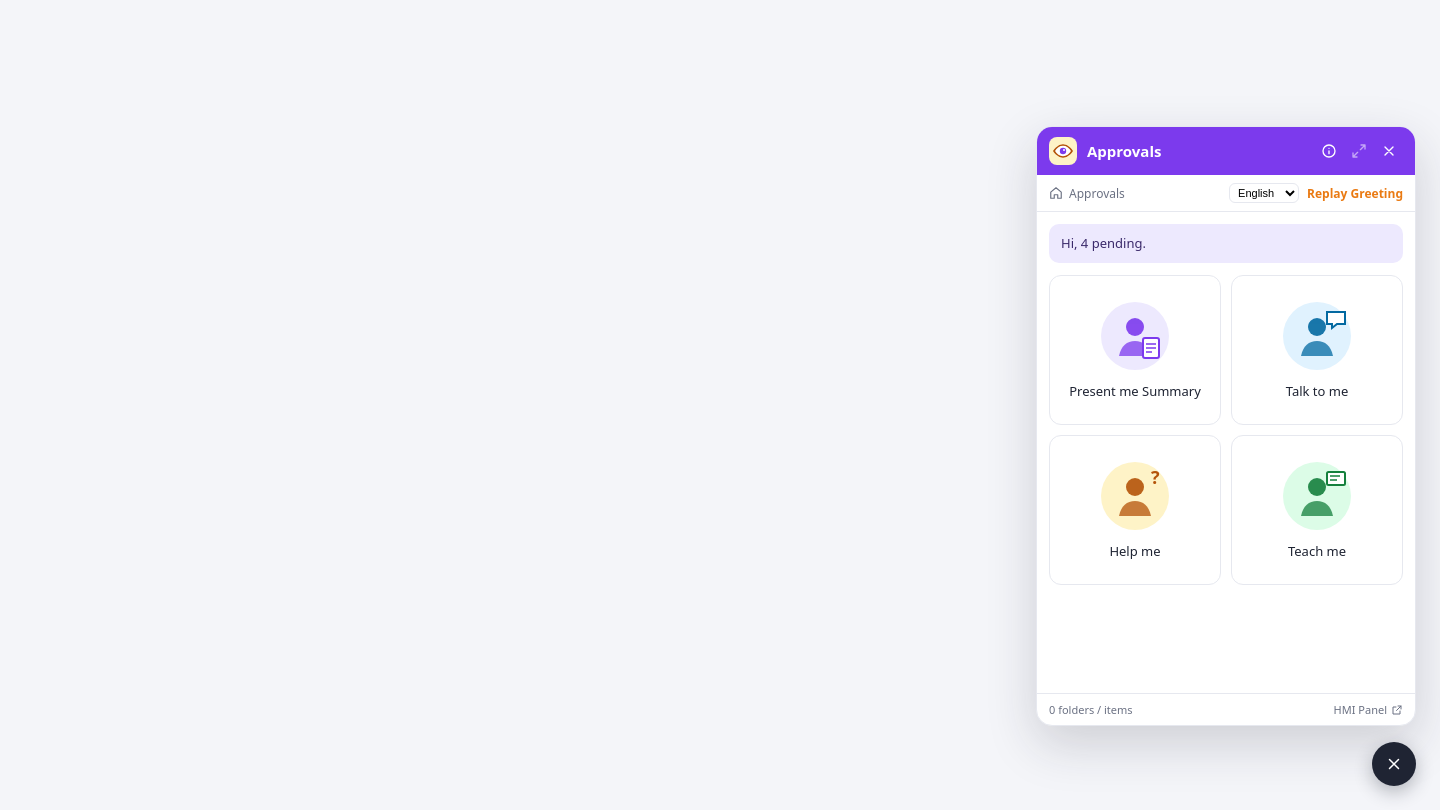
Test case: AssistantWidget › navigates from a card into its view and back home
The width and height of the screenshot is (1440, 810).
Click the button "? Help me" at coordinates (1135, 510), box [1049,435,1221,585]
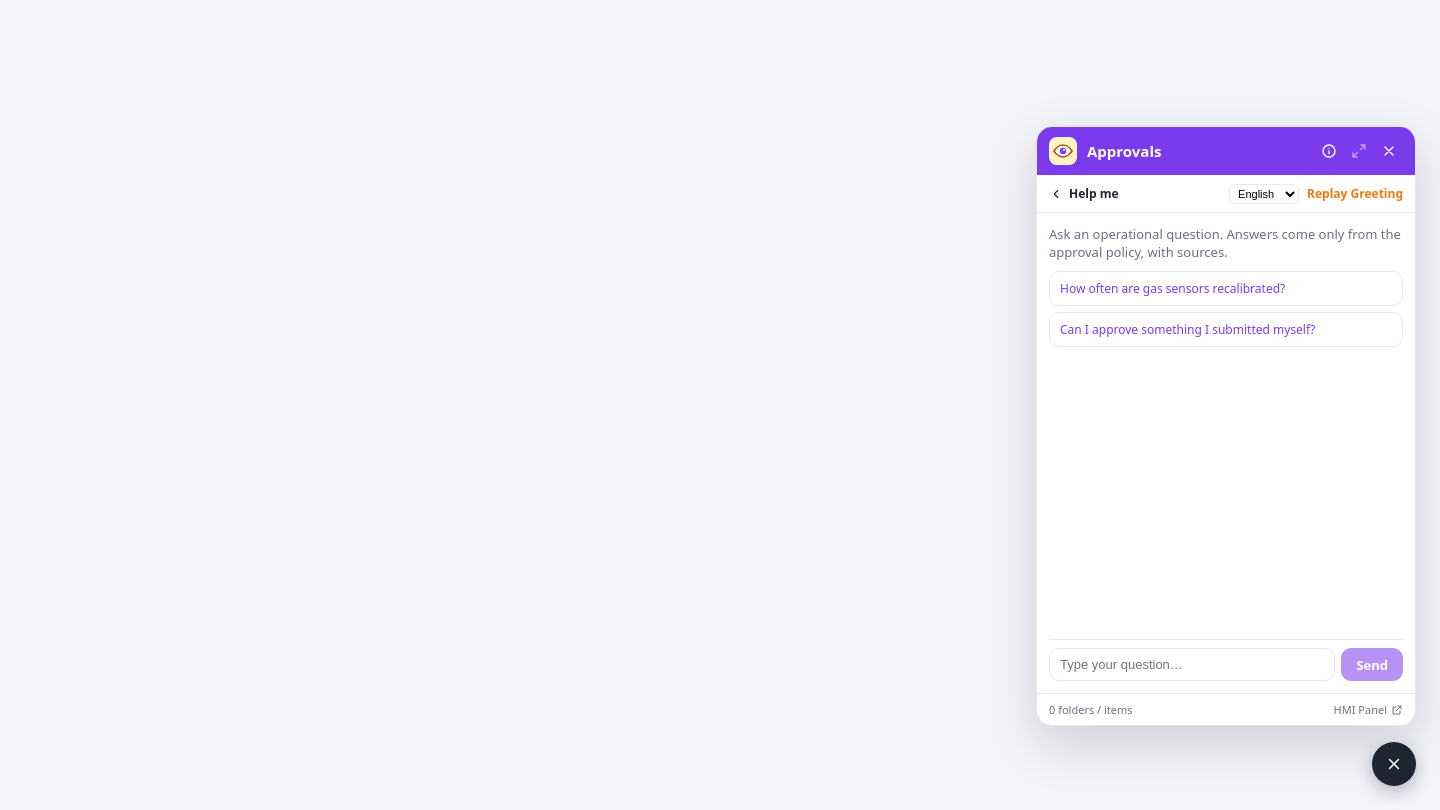
Now the field named "message the assistant" is shown, box [1049,648,1335,681]
Click the button with aria-label "back" at coordinates (1084, 194), box [1049,183,1118,204]
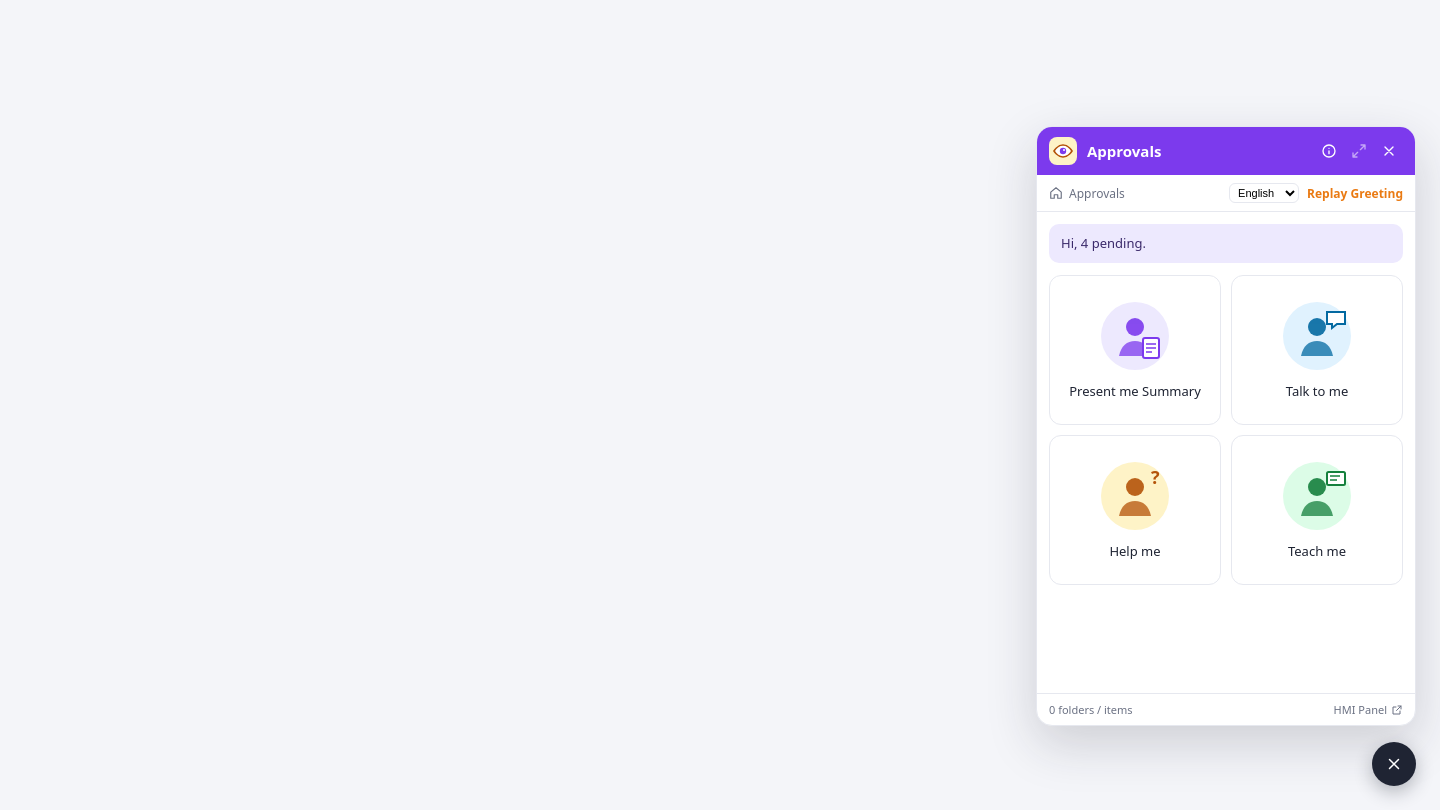
Now the button "Teach me" is shown, box [1231,435,1403,585]
